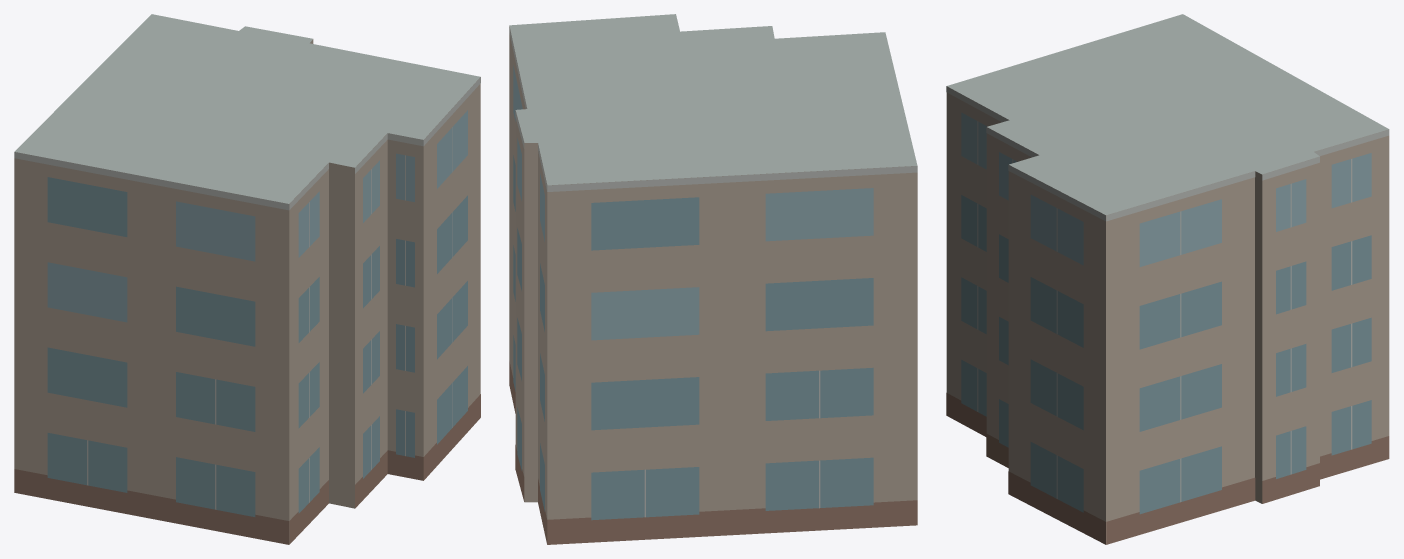
File: survey-upis-32802129.glb
3 renders of one model, left to right at view 1: azimuth 30°, elevation 25°; view 2: azimuth 150°, elevation 25°; view 3: azimuth 270°, elevation 25°, orthographic. The views are drawn at different scales.
Visible parts, largest first — view 1: survey-upis-32802129.tmp; view 2: survey-upis-32802129.tmp; view 3: survey-upis-32802129.tmp.
Part boxes in pixels (<box>): survey-upis-32802129.tmp: <box>14,14,480,544</box>; survey-upis-32802129.tmp: <box>509,14,917,544</box>; survey-upis-32802129.tmp: <box>946,14,1389,544</box>.
Bounding box in the file's own units: 16.97 × 12.95 × 15.78.
